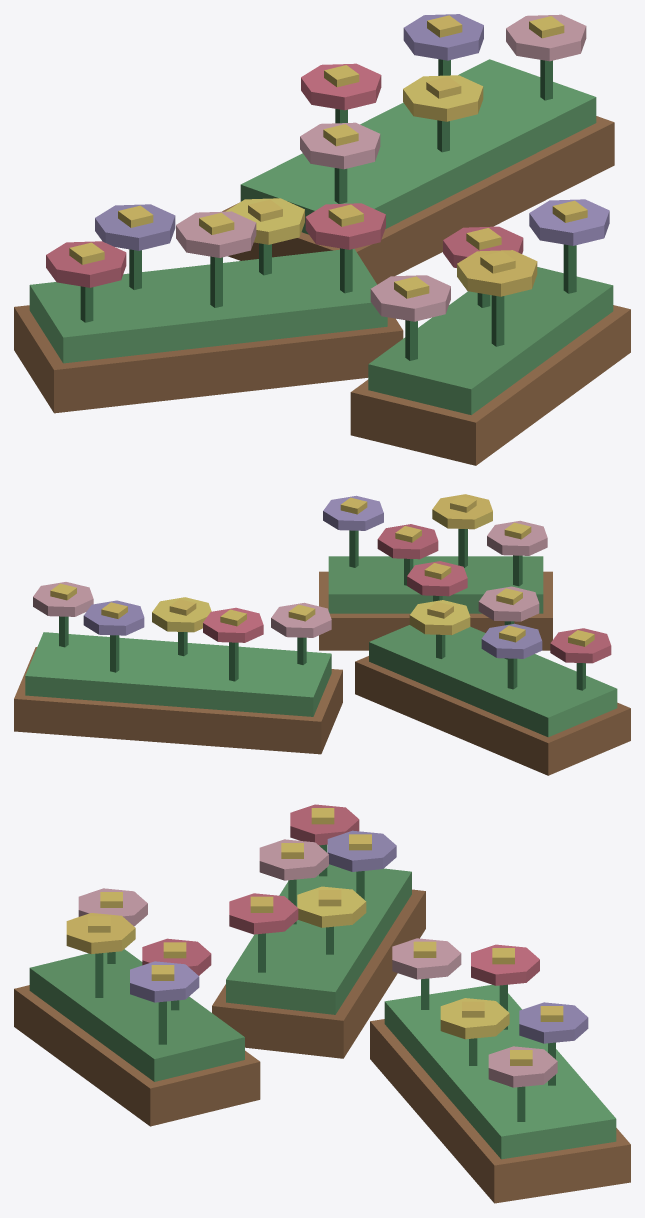
Rendered from Decor_CloudTemple_FlowerBeds.fbx.
3 views of the same model, one above another, from view 1: azimuth 30°, elevation 25°; view 2: azimuth 150°, elevation 25°; view 3: azimuth 270°, elevation 25° (orthographic). The views are drawn at different scales.
Parts seen in each view (by area): view 1: FlowerBeds_Body; view 2: FlowerBeds_Body; view 3: FlowerBeds_Body.
Part boxes in pixels (x1,y1,x2,y2): FlowerBeds_Body: (14,14,630,465); FlowerBeds_Body: (14,494,630,775); FlowerBeds_Body: (14,804,630,1203).
Bounding box in the file's own units: 15.07 × 3.3 × 13.58.
